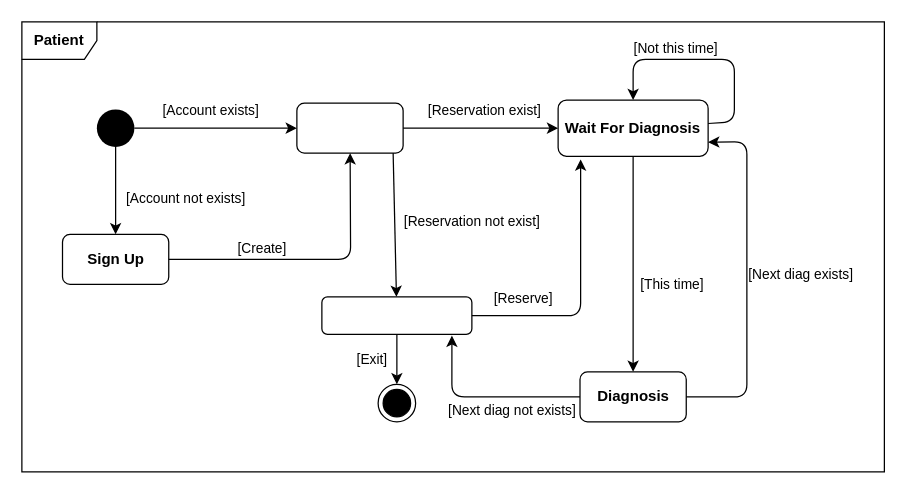
The diagram is 906 pixels wide and 494 high, and some of its shapes have lost their labels. The shapes that lost their labels are listed below. From the top down, each one's box as (x1, y1, x2, y2) in pixels, then its label:
(296, 102, 403, 153): Signed In
(321, 296, 472, 334): No reservation
